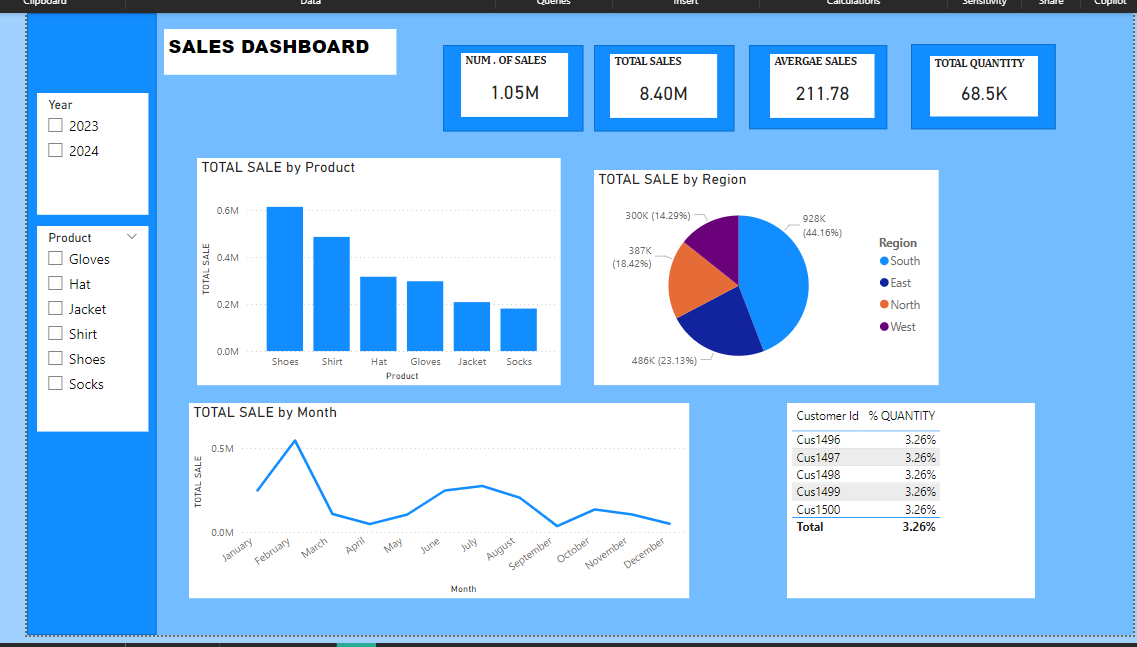

The dashboard page shown, as its layout file describes it:
{"tool":"powerbi","page":{"name":"SalesData","canvas":[1280,720],"ordinal":0},"visuals":[{"type":"shape","box":[656.2,37.5,162.5,100],"z":0},{"type":"card","title":"TOTAL SALES","fields":{"Values":["SalesData.TotalSales"]},"box":[675,47.5,123.8,73.8],"z":1000},{"type":"shape","box":[1023.8,36.2,167.5,98.8],"z":2000},{"type":"shape","box":[836.2,37.5,160,97.5],"z":3000},{"type":"card","title":"TOTAL QUANTITY","fields":{"Values":["SalesData.TOTAL QUANTITY"]},"box":[1045,50,125,70],"z":4000},{"type":"card","title":"AVERGAE SALES","fields":{"Values":["SalesData.AverageSales"]},"box":[860,47.5,121.2,73.8],"z":5000},{"type":"textbox","box":[158.8,18.8,268.8,52.5],"z":6000},{"type":"shape","box":[0,0,150,720],"z":7000},{"type":"clusteredColumnChart","fields":{"Y":["SalesData.TOTAL SALE"],"Category":["PRODUCT.Product"]},"box":[196.2,167.5,421.2,262.5],"z":8000},{"type":"pieChart","fields":{"Y":["SalesData.TOTAL SALE"],"Category":["REGIONS.Region"]},"box":[656.2,181.2,398.8,248.8],"z":9000},{"type":"lineChart","fields":{"Y":["SalesData.TOTAL SALE"],"Category":["SalesData.OrderDate.Variation.Date Hierarchy.Month"]},"box":[187.5,451.2,578.8,226.2],"z":10000},{"type":"shape","box":[481.2,37.5,162.5,100],"z":11000},{"type":"card","title":"NUM . OF SALES","fields":{"Values":["SalesData.NUM OF SALES"]},"box":[502.5,46.2,123.8,73.8],"z":12000},{"type":"slicer","fields":{"Values":["SalesData.OrderDate.Variation.Date Hierarchy.Year"]},"box":[11.2,92.5,128.8,141.2],"z":13000},{"type":"slicer","fields":{"Values":["PRODUCT.Product"]},"box":[0,246.2,140,237.5],"z":14000},{"type":"tableEx","fields":{"Values":["SalesData.Customer Id","SalesData.% QUANTITY"]},"box":[767,451,288,226],"z":15000}]}

Visuals, with their boxes in screenshot pixels (x1, y1, x2, y2):
shape: Rect(596, 42, 738, 129)
"TOTAL SALES" card: Rect(612, 50, 720, 115)
shape: Rect(918, 41, 1064, 127)
shape: Rect(753, 42, 893, 127)
"TOTAL QUANTITY" card: Rect(936, 53, 1046, 114)
"AVERGAE SALES" card: Rect(774, 50, 880, 115)
textbox: Rect(160, 25, 395, 71)
shape: Rect(21, 9, 152, 640)
clusteredColumnChart - SalesData.TOTAL SALE x PRODUCT.Product: Rect(193, 156, 562, 386)
pieChart - SalesData.TOTAL SALE x REGIONS.Region: Rect(596, 168, 945, 386)
lineChart - SalesData.TOTAL SALE x SalesData.OrderDate.Variation.Date Hierarchy.Month: Rect(185, 404, 692, 602)
shape: Rect(442, 42, 585, 129)
"NUM . OF SALES" card: Rect(461, 49, 569, 114)
slicer - SalesData.OrderDate.Variation.Date Hierarchy.Year: Rect(31, 90, 143, 214)
slicer - PRODUCT.Product: Rect(21, 225, 143, 433)
tableEx - SalesData.Customer Id x SalesData.% QUANTITY: Rect(693, 404, 945, 602)
